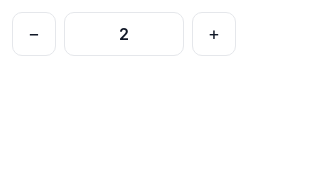
Test case: the − and + buttons still work and stop at the limits
Click the button named "More adults": click(214, 34) [192,12,236,56]
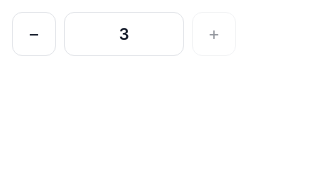
Expected: the field named "Adults" holds "3", [64,12,184,56]
Expected: the button named "More adults" is disabled, [192,12,236,56]
Click the button named "Fewer adults": click(34, 34) [12,12,56,56]
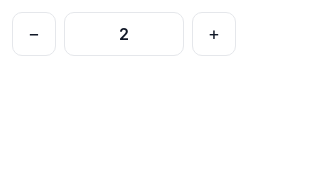
Expected: the field named "Adults" holds "2", [64,12,184,56]
